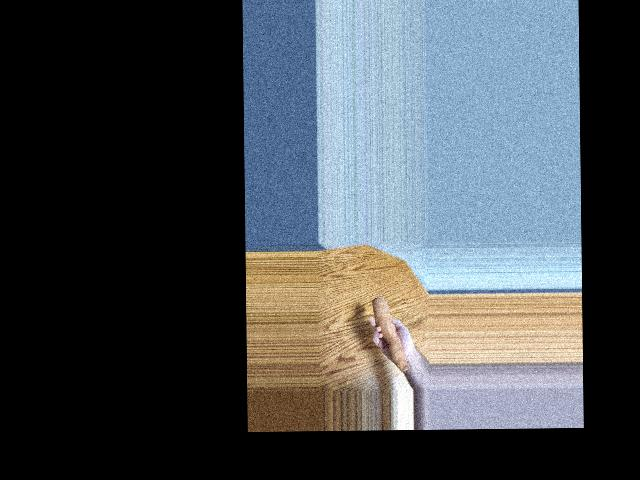sweet_potato: (371, 295, 410, 372)
